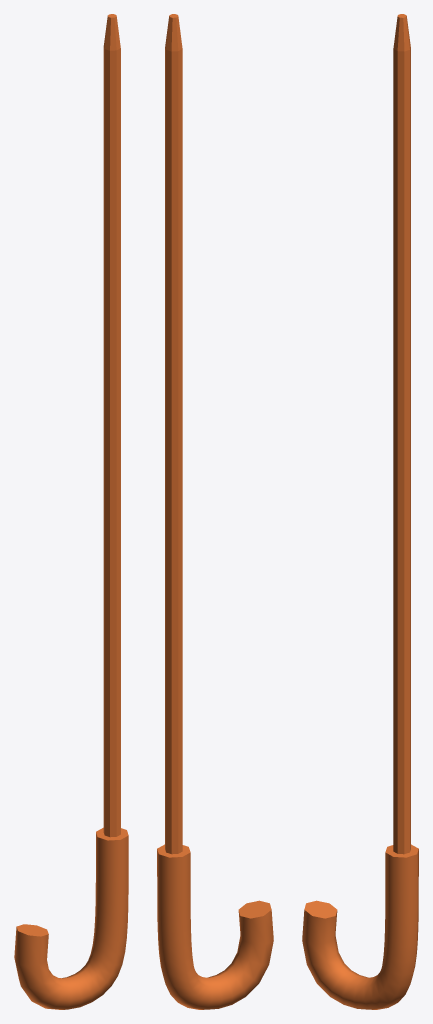
Rendered from umbrella-stick.gltf.
3 renders of one model, left to right at view 1: azimuth 30°, elevation 25°; view 2: azimuth 210°, elevation 25°; view 3: azimuth 330°, elevation 25°, orthographic. The views are drawn at different scales.
Visible parts, largest first — view 1: Circle.001, NurbsPath; view 2: Circle.001, NurbsPath; view 3: Circle.001, NurbsPath.
Part boxes in pixels (x1,y1,x2,y2): Circle.001: (103, 14, 120, 837); NurbsPath: (14, 827, 128, 1009); Circle.001: (165, 14, 182, 854); NurbsPath: (157, 844, 273, 1009); Circle.001: (393, 14, 410, 854); NurbsPath: (302, 844, 418, 1009).
Size of the model in its own units: 0.5915 by 5 by 0.1565.
